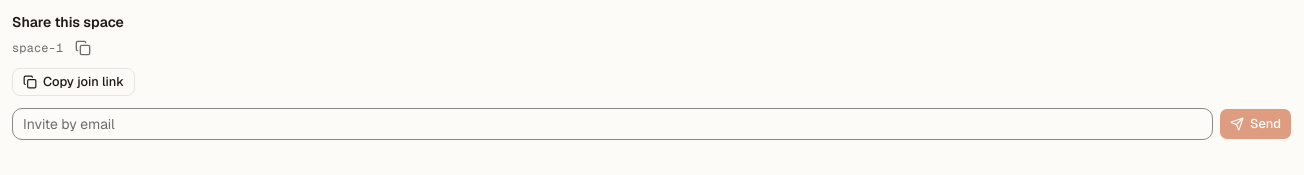
Test: SpaceSharingSection invite by email › clears the error as soon as the email changes
The image size is (1304, 175).
Type "a@b.co" into the field labelled "Invite by email" at [612, 124], box [12, 108, 1213, 140]
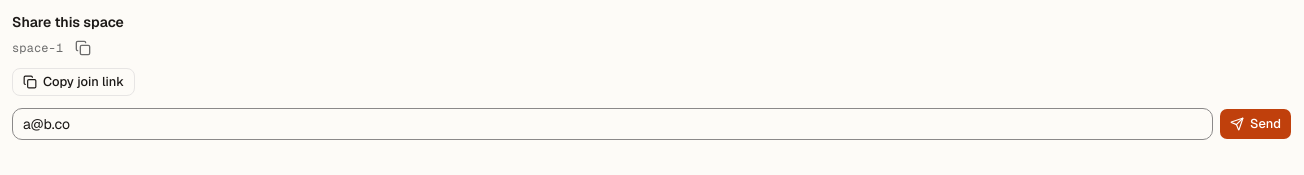
Submit the form named "Invite by email", box [12, 108, 1292, 140]
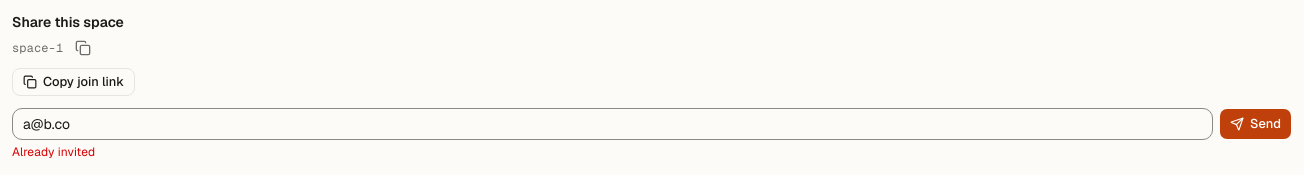
Replace the text in the field named "Invite by email" with "c@d.co" at [612, 124], box [12, 108, 1213, 140]
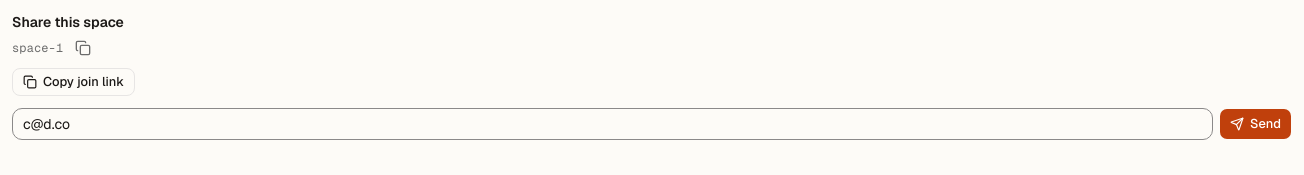
Now the text "Already invited" is gone
